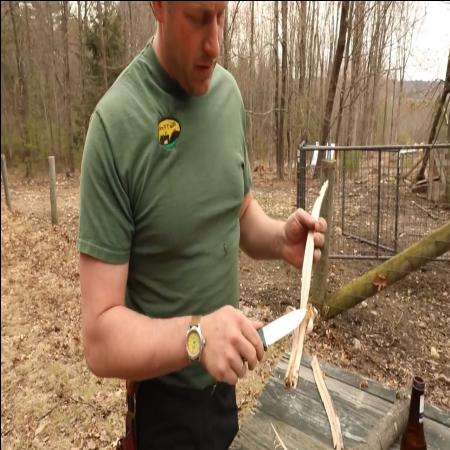long weapon: (215, 296, 313, 388)
